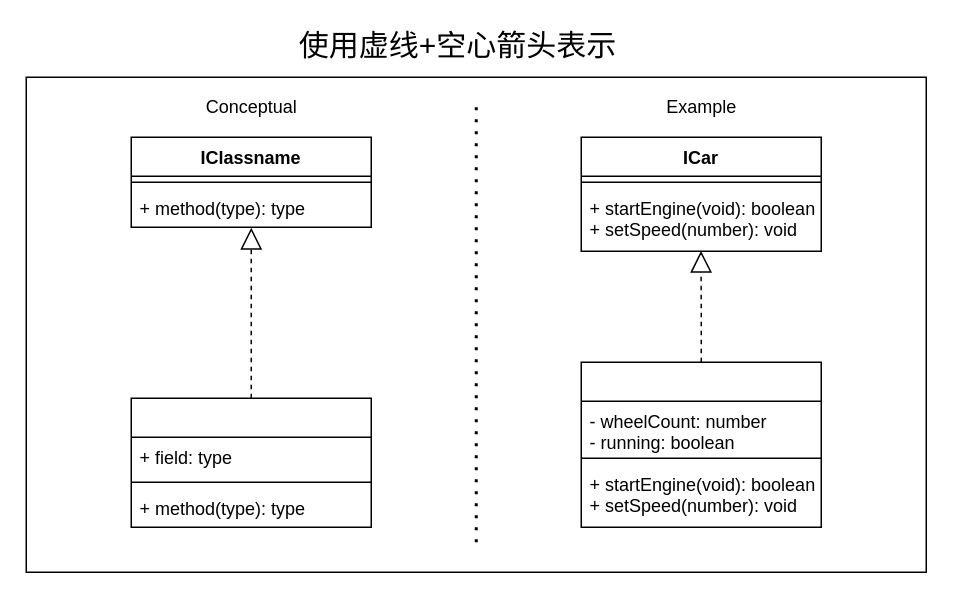
The diagram is 953 pixels wide and 599 high, and some of its shapes have lost their labels. Here are the shapes that lost their labels. From the top down, the box of each, then its label:
(130, 397, 371, 527): ClassA
(580, 361, 821, 527): Car
